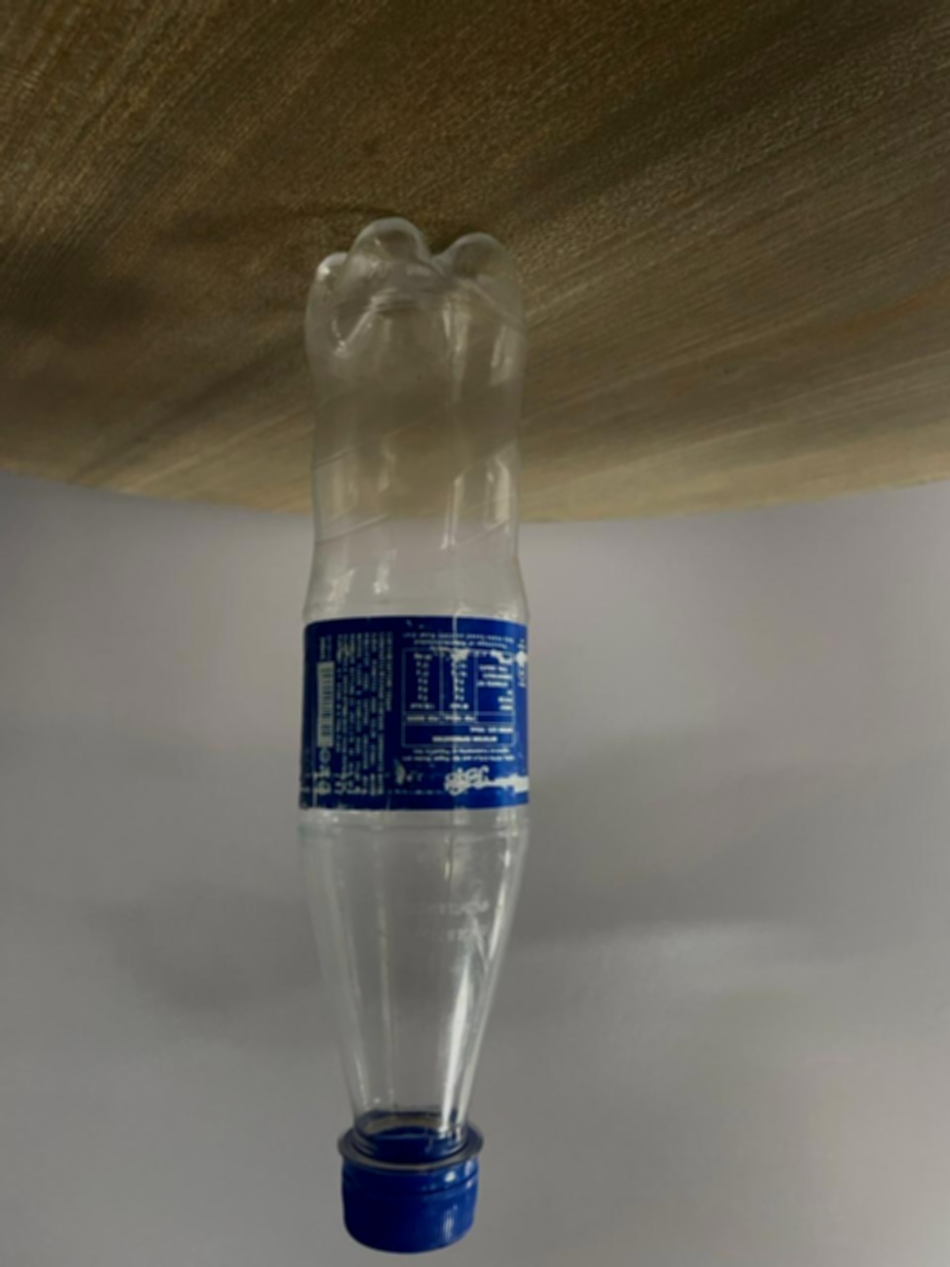Pepsi Bottle: (281, 214, 534, 1262), (285, 218, 534, 1262)
